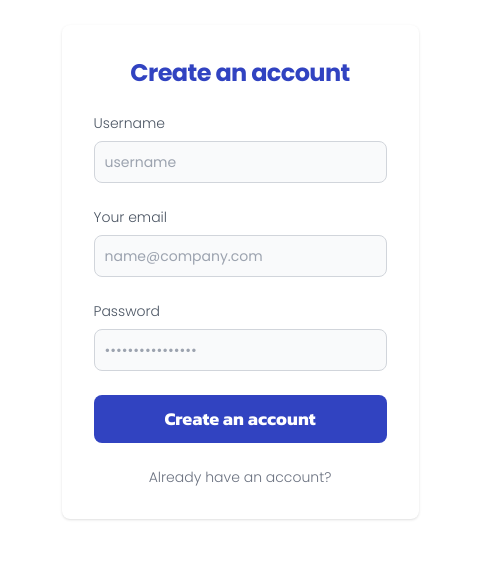
Scenario: Signup Page › error message shown when invalid password and email is input
Type "incorrectemail" into the field labelled "Your email" at [240, 256], box 94,235 -> 386,277
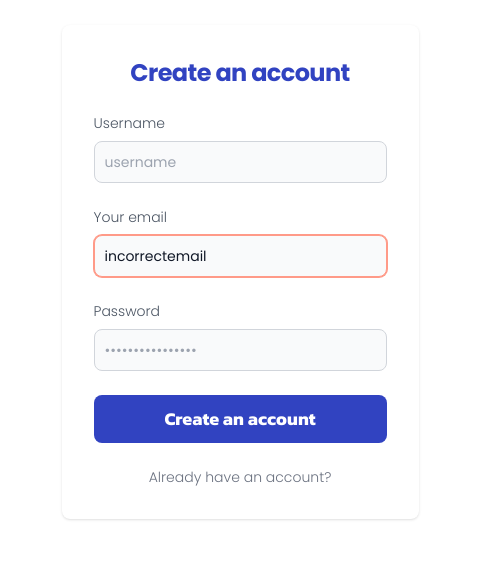
Type "incorrectpassword" into the password field labelled "Password" at [240, 350], box 94,329 -> 386,371
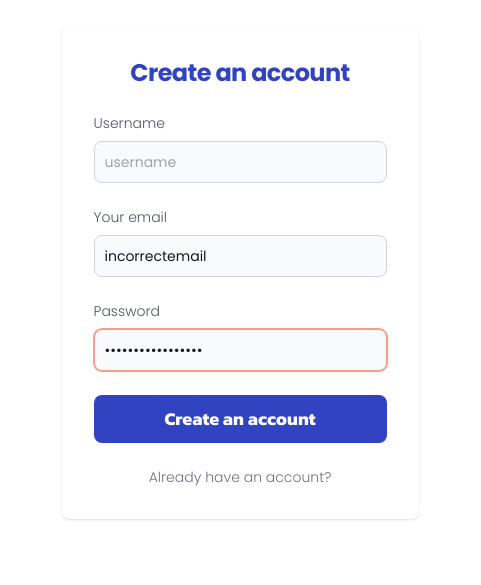
Type "incorrect" into the field labelled "Username" at [240, 162], box 94,141 -> 386,183
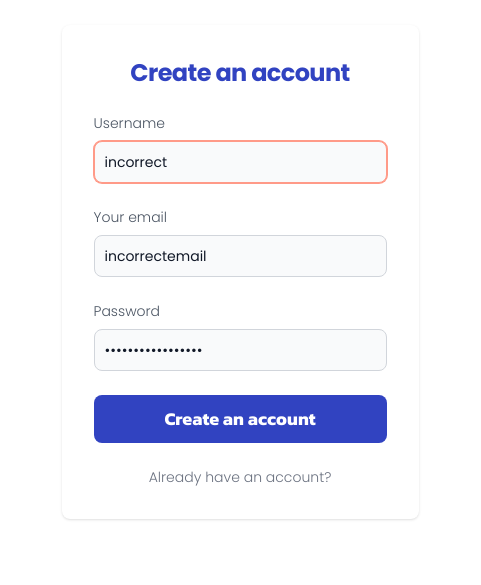
Click the button at [240, 419], box 94,395 -> 386,443
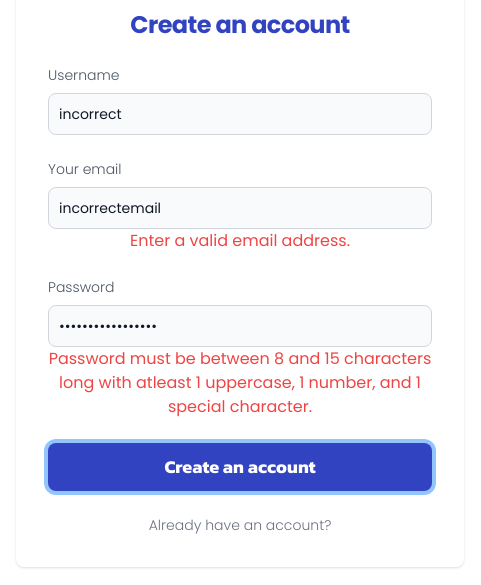
expect the text "Enter a valid email address." is shown: met, box 130,229 -> 350,252
expect the text "Password must be between 8 and 15 characters long with atleast 1 uppercase, 1 number, and 1 special character." is shown: met, box 49,347 -> 431,418
